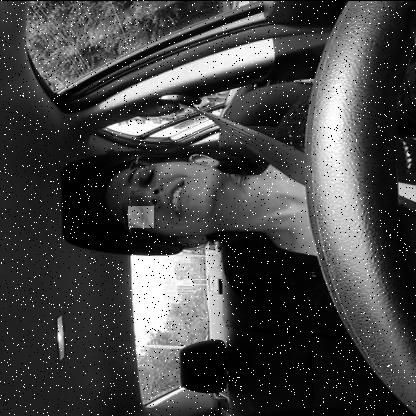seatbelt: (81, 115, 416, 261)
